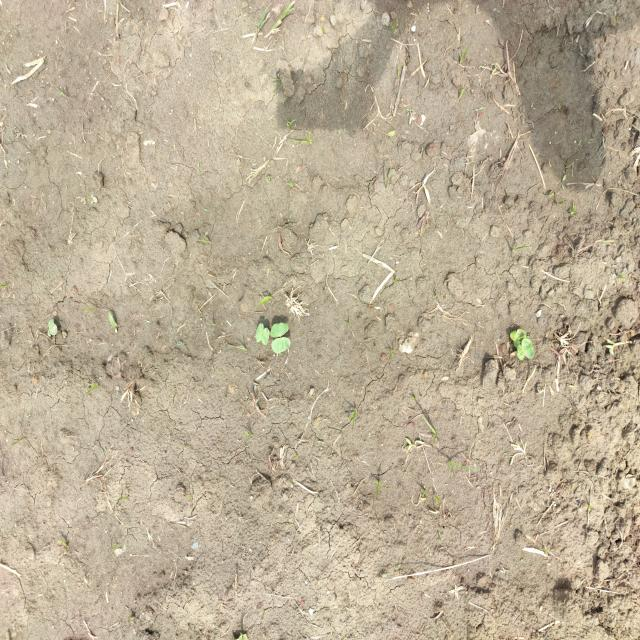seedling_s1: (271, 337, 290, 354), (521, 338, 534, 359), (271, 322, 289, 337), (255, 323, 264, 343), (510, 330, 519, 348), (48, 319, 57, 335), (517, 329, 526, 345), (517, 345, 525, 361), (262, 327, 269, 345)
